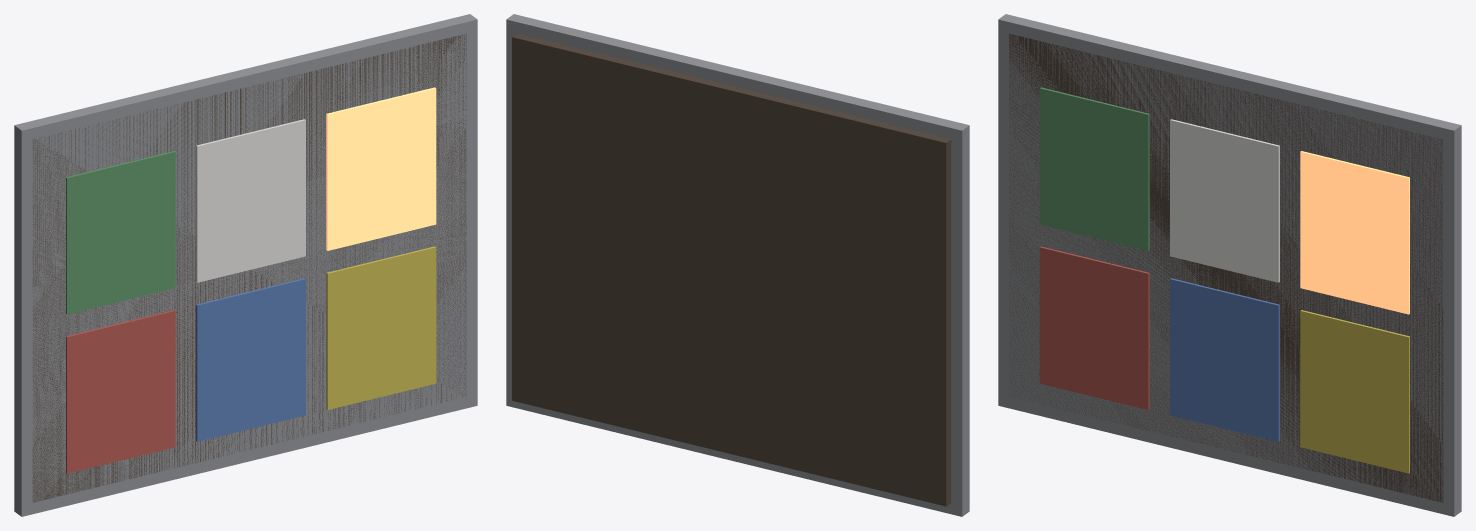
Rendered from prop_poster_board_b.glb.
3 views of the same model, side by side, from view 1: azimuth 30°, elevation 25°; view 2: azimuth 150°, elevation 25°; view 3: azimuth 330°, elevation 25° (orthographic).
Visible parts, largest first — view 1: poster_board_b; view 2: poster_board_b; view 3: poster_board_b.
Boxes of the visible parts, x1=… form: poster_board_b: x1=14, y1=14, x2=477, y2=516; poster_board_b: x1=506, y1=14, x2=969, y2=516; poster_board_b: x1=998, y1=14, x2=1461, y2=516.
Bounding box in the file's own units: 2.1 × 1.7 × 0.115.
